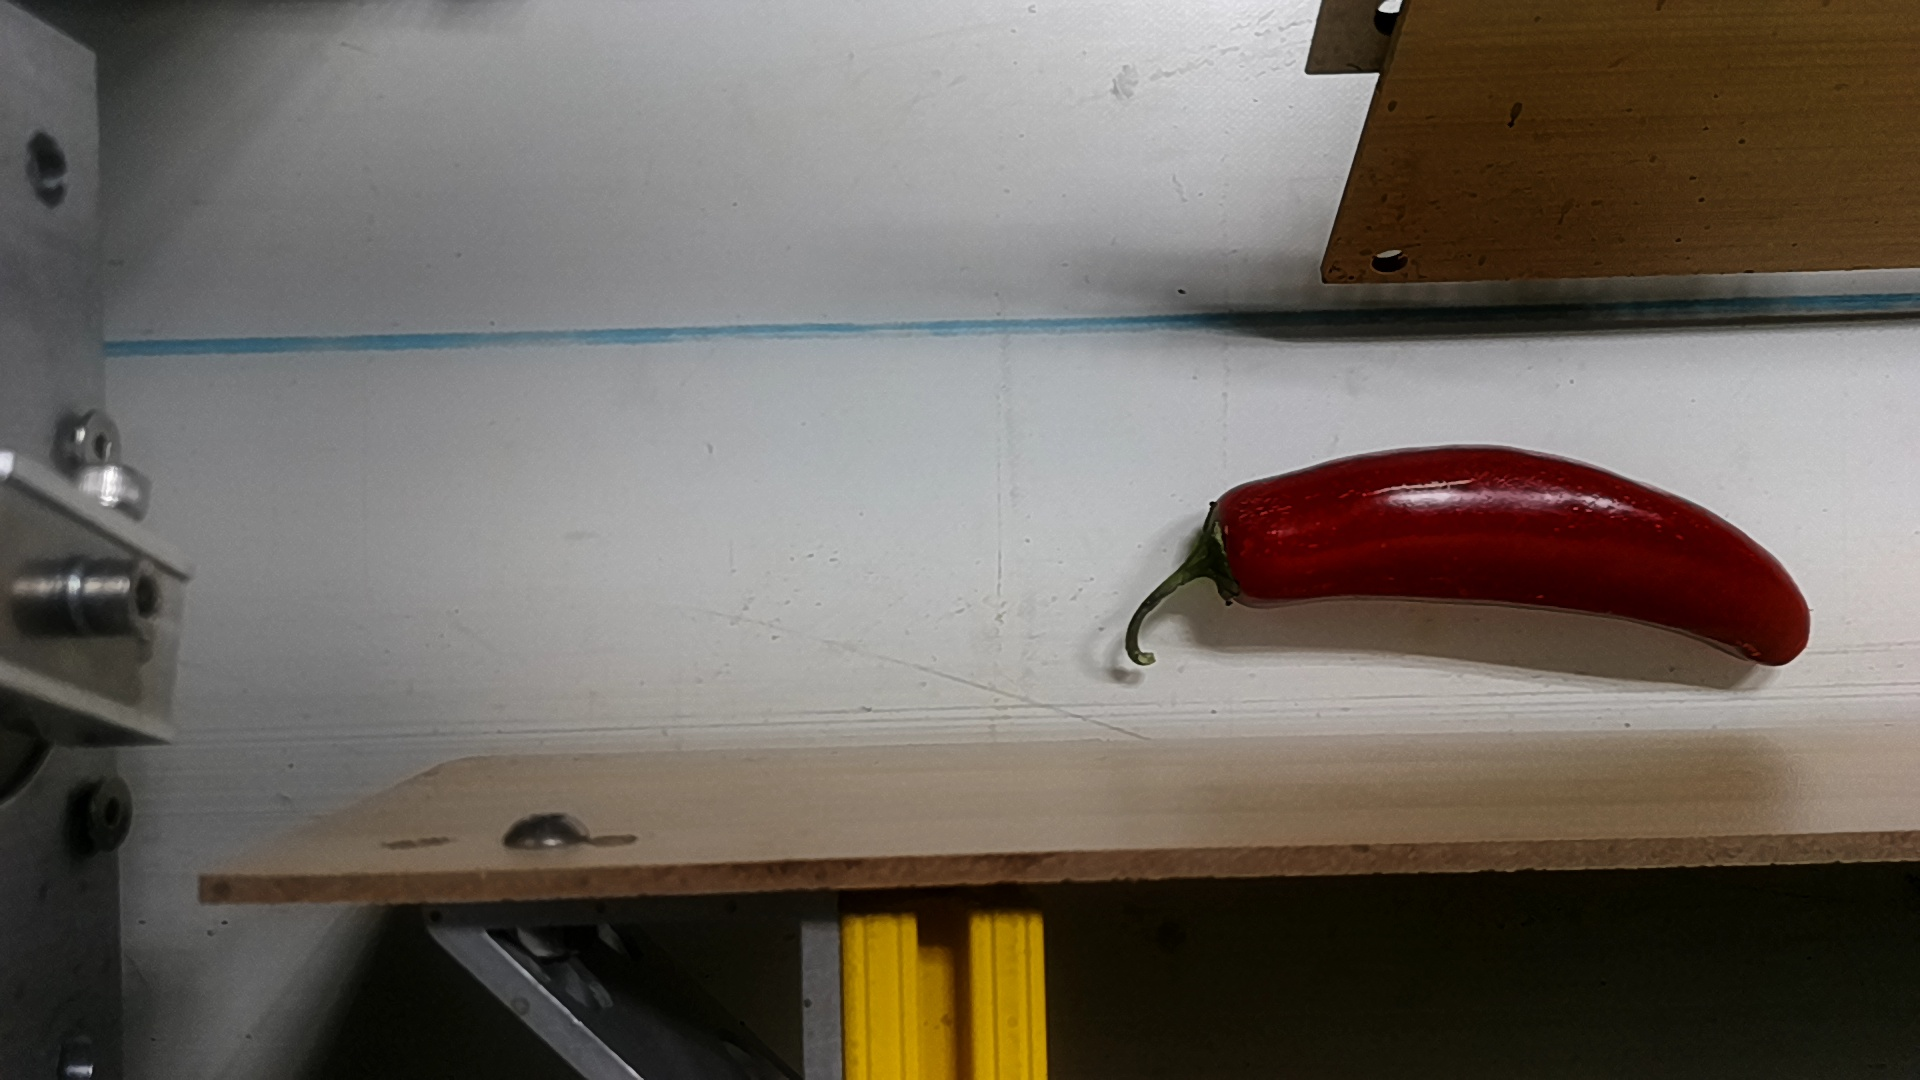Cut Point: (1184, 480, 1278, 613)
